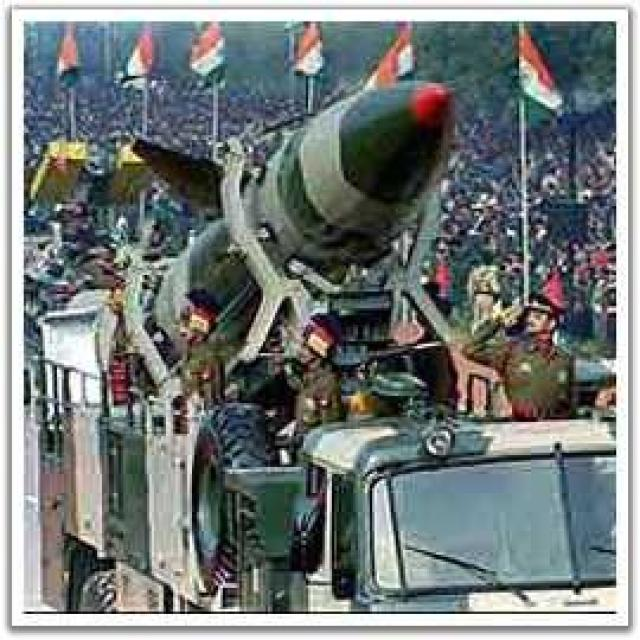missile: (94, 78, 463, 373)
